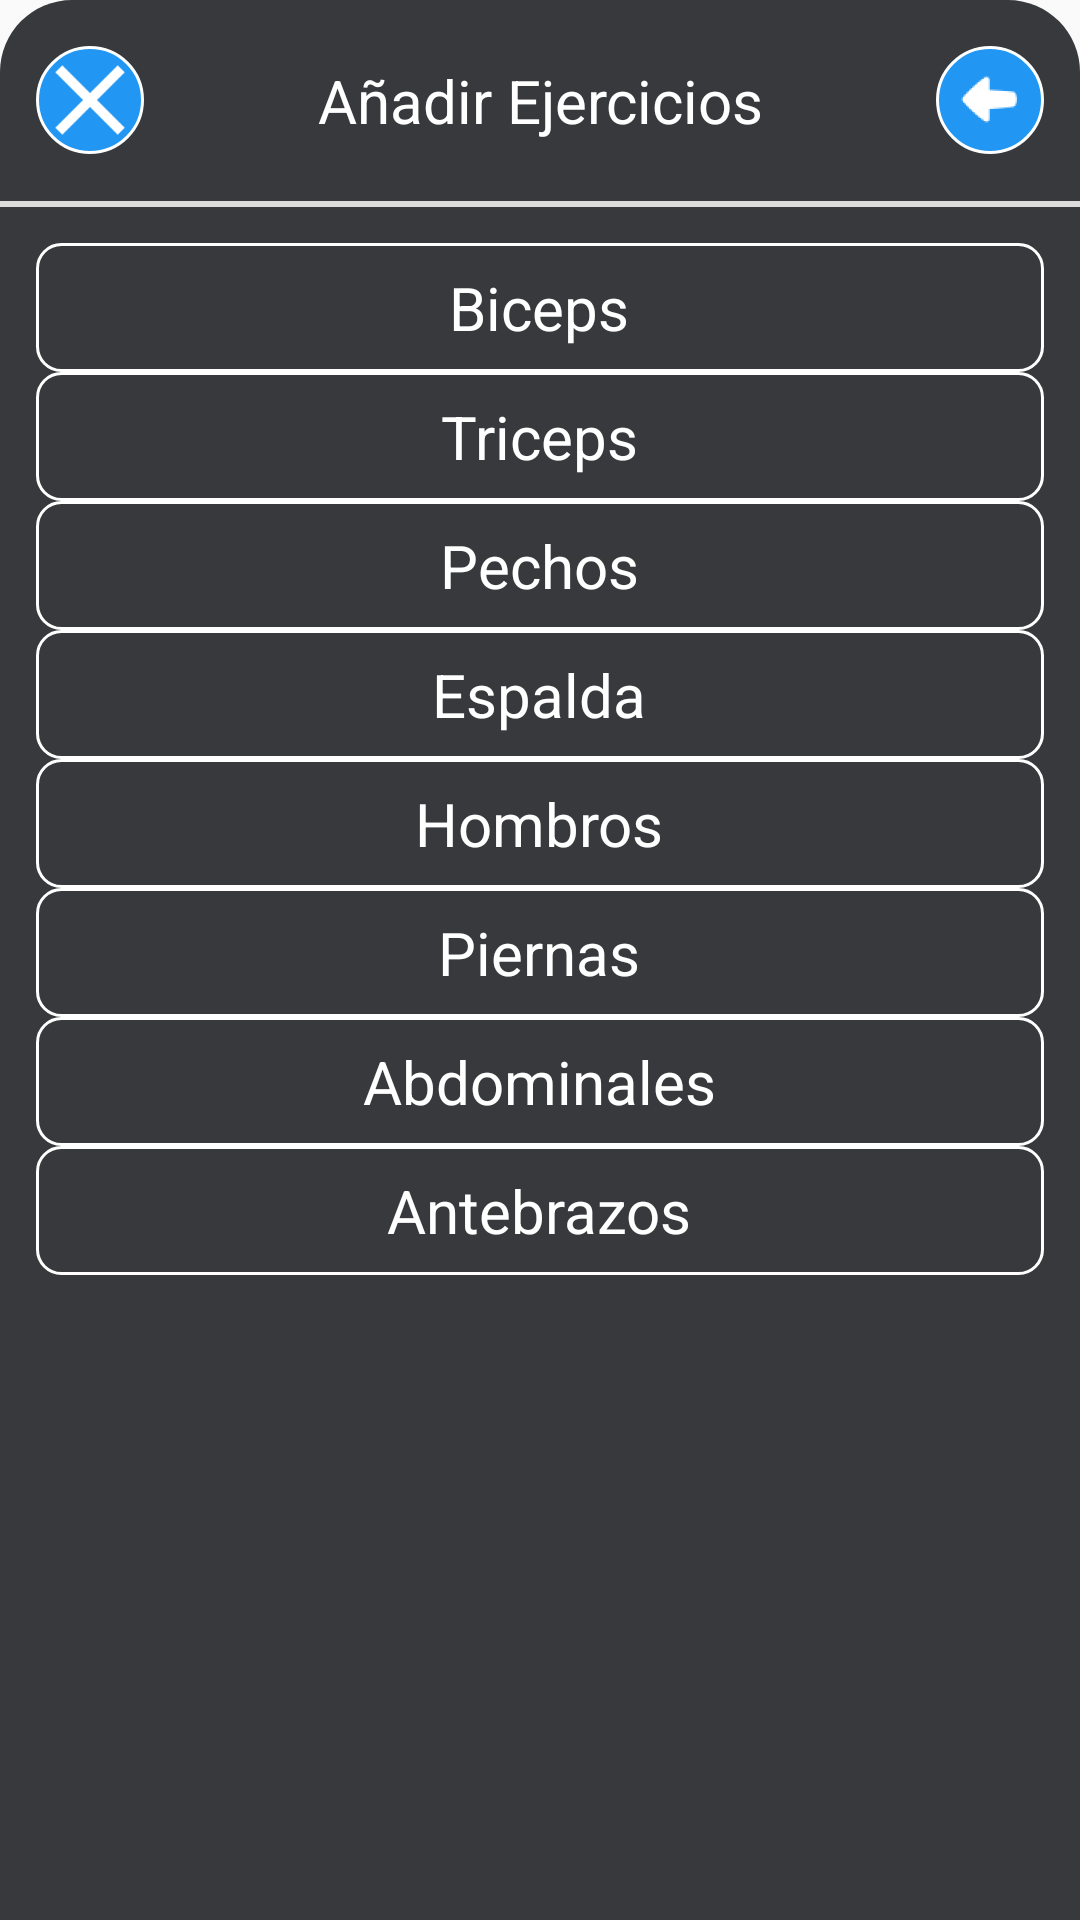

Point at icon controls on the screen. Image size 1080w x 1920h, points as (x,y).
atras home: (990,100)
close: (90,100)
